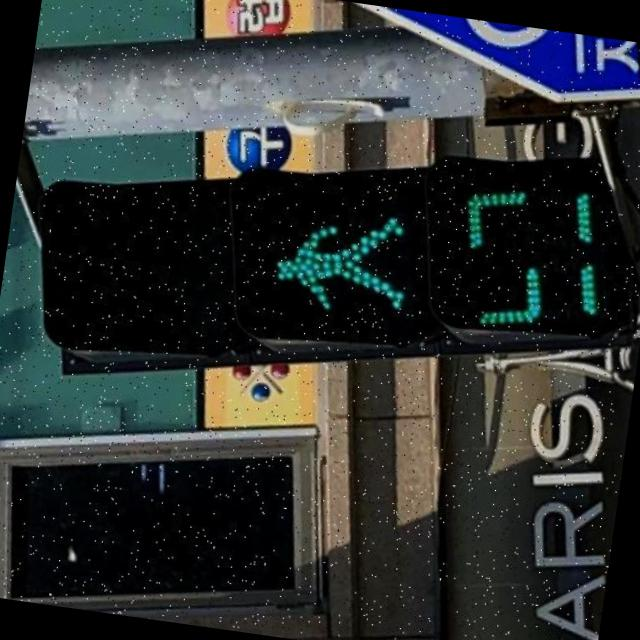green_light: (238, 136, 640, 391)
